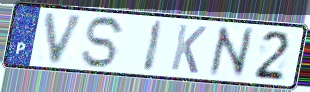2: (250, 29, 295, 83)
I: (140, 18, 166, 75)
K: (168, 22, 209, 76)
N: (207, 24, 255, 79)
S: (79, 14, 128, 70)
V: (42, 11, 87, 67)
